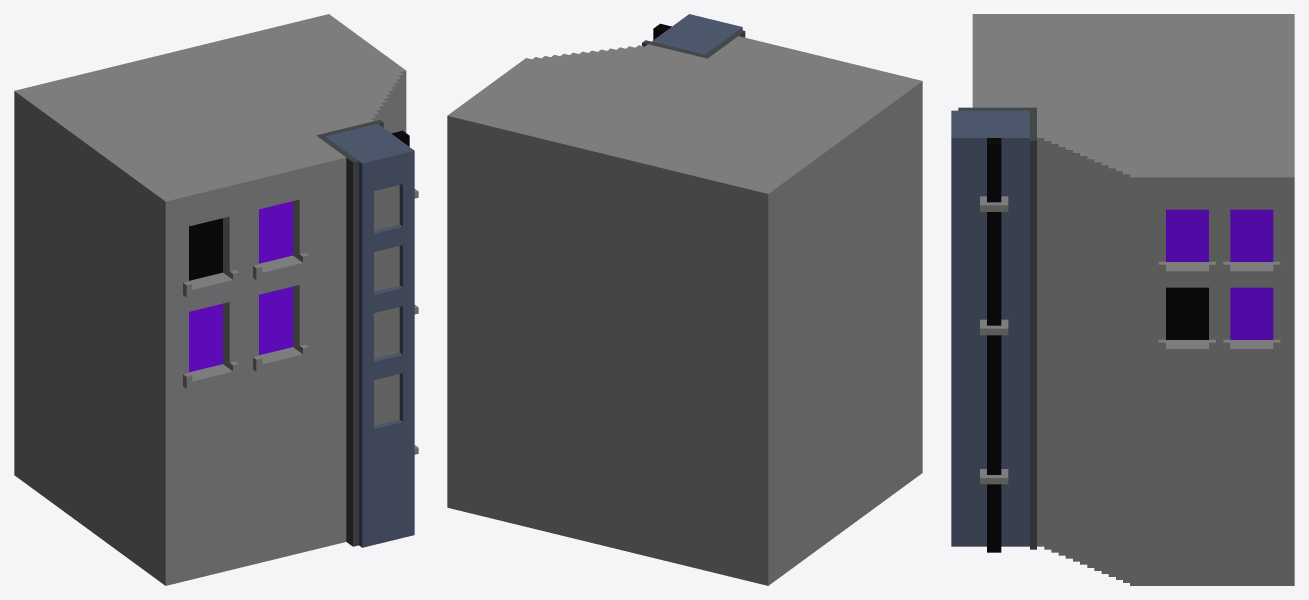
File: Building009(1).obj
3 views of the same model, side by side, from view 1: azimuth 30°, elevation 25°; view 2: azimuth 150°, elevation 25°; view 3: azimuth 270°, elevation 25° (orthographic). The views are drawn at different scales.
Size of the model in its own units: 5.5 by 6.3 by 4.8.
1 material, 1 textured.
